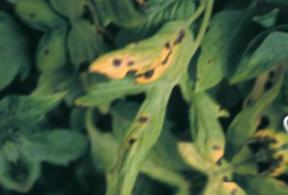Tomato leaf bacterial spot: (72, 13, 245, 195)
